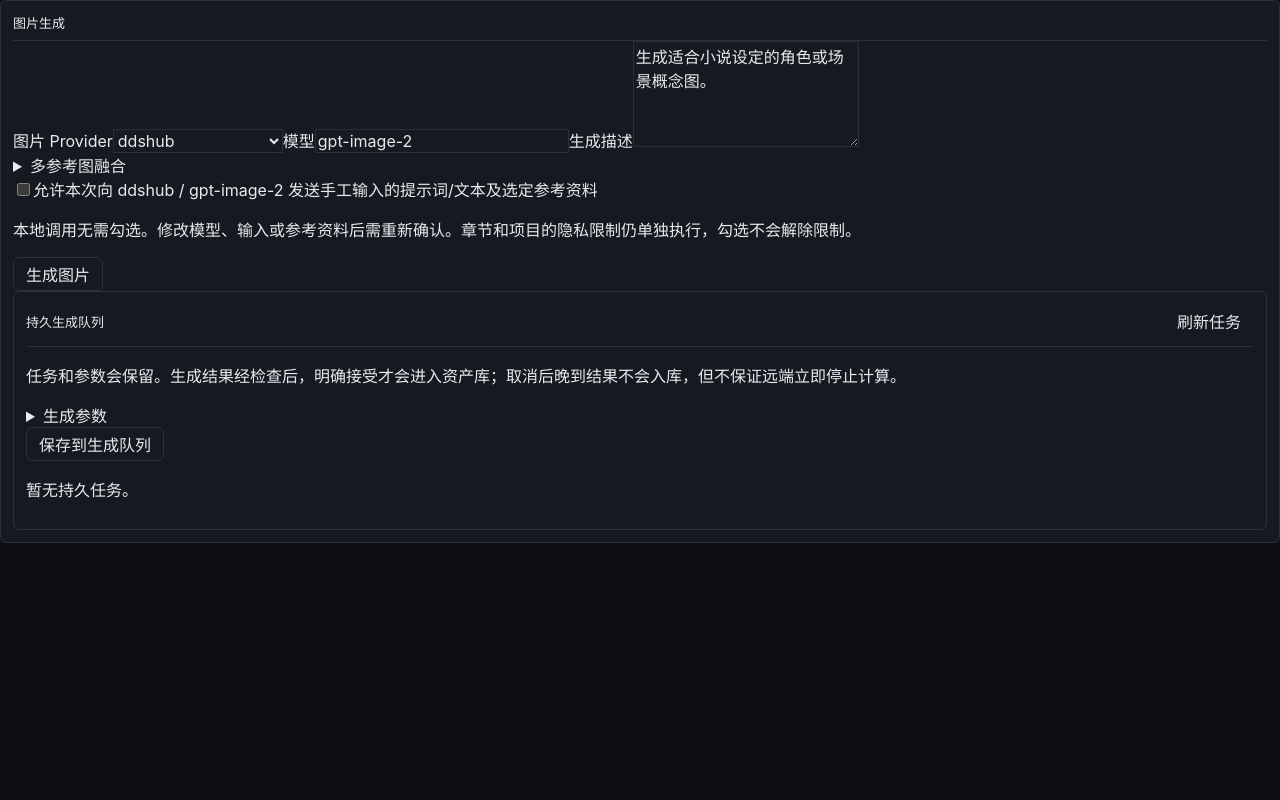
can reuse selected infinite-canvas images as references
Step 1. Click the heading "多参考图融合" → click(78, 166), box [30, 156, 126, 176]
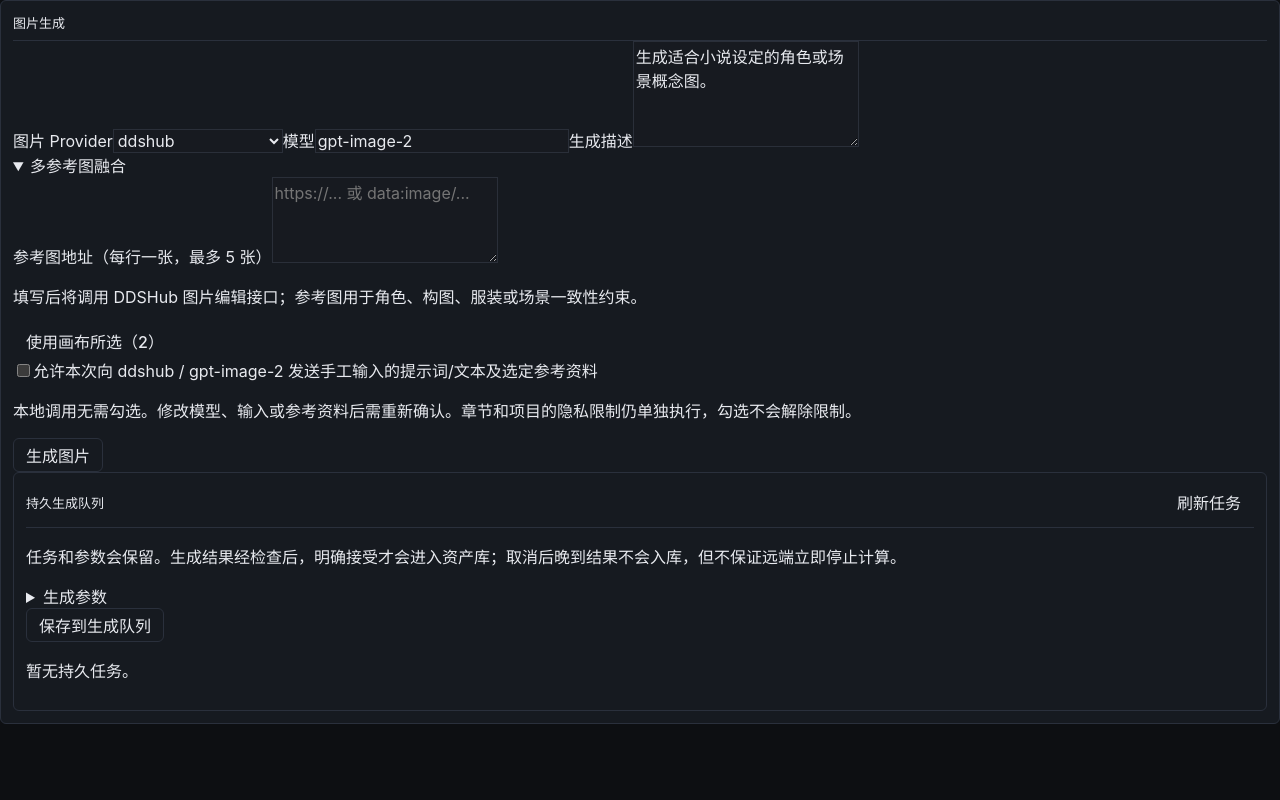
Step 2. Click the button "使用画布所选（2）" → click(95, 341), box [13, 324, 177, 358]
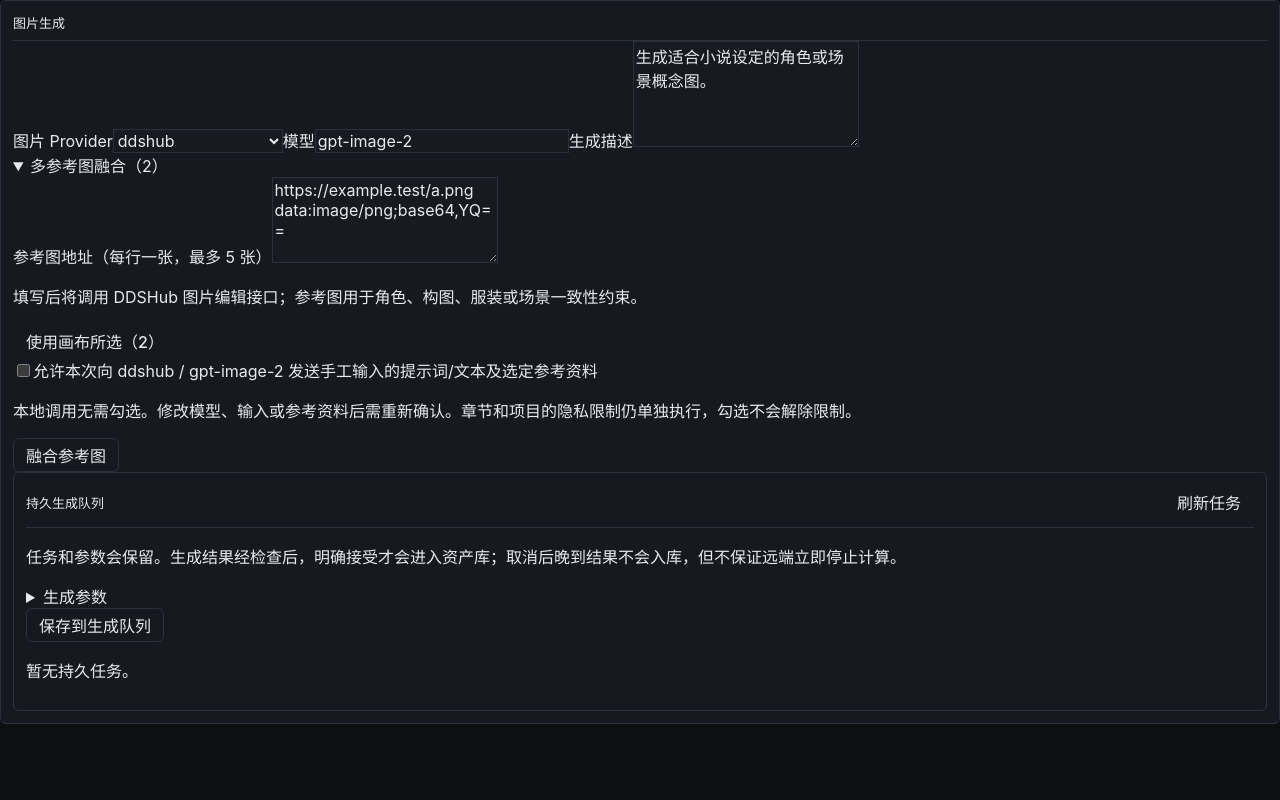
expect the button "融合参考图" is shown: met, box [13, 438, 119, 472]
